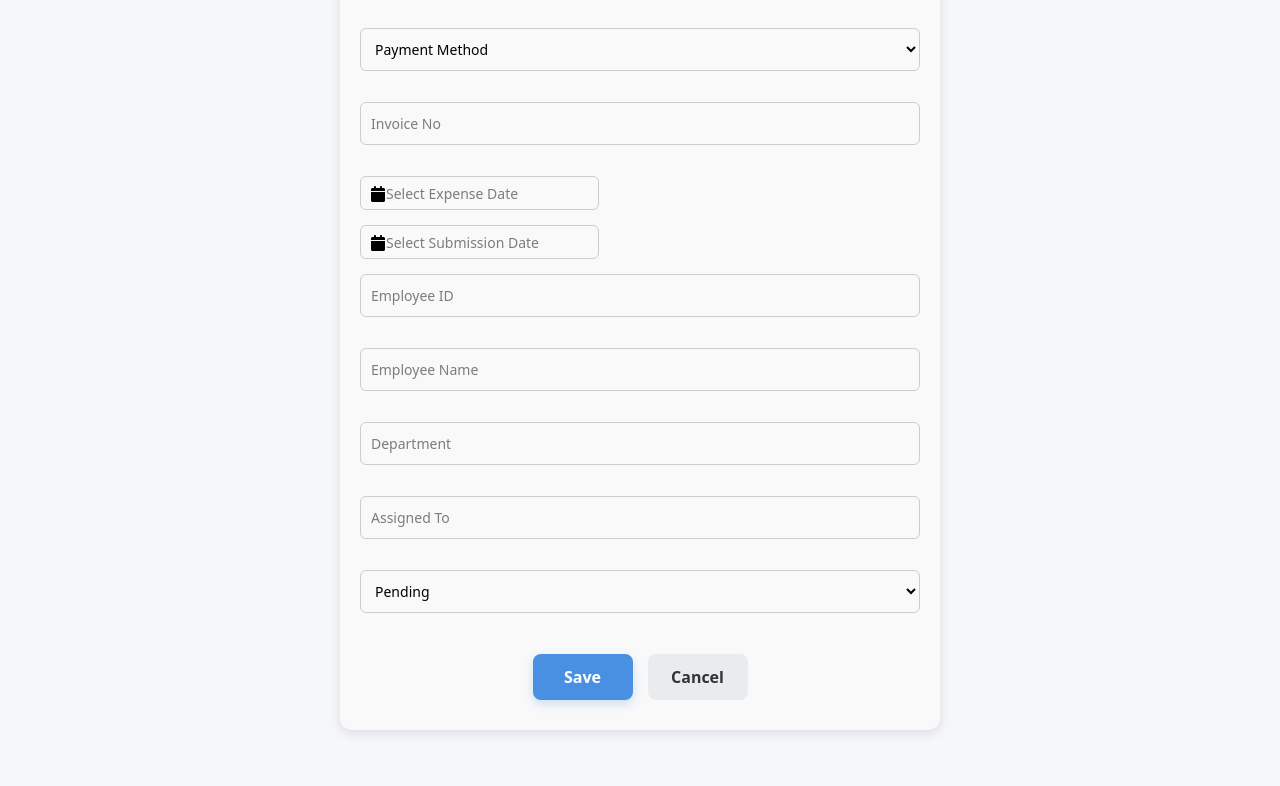
Test: UserExpense Page › shows validation errors on empty submit
(page scrolled)
Click the button "Save": (582, 677) top-left (532, 654), bottom-right (632, 700)
(page scrolled)
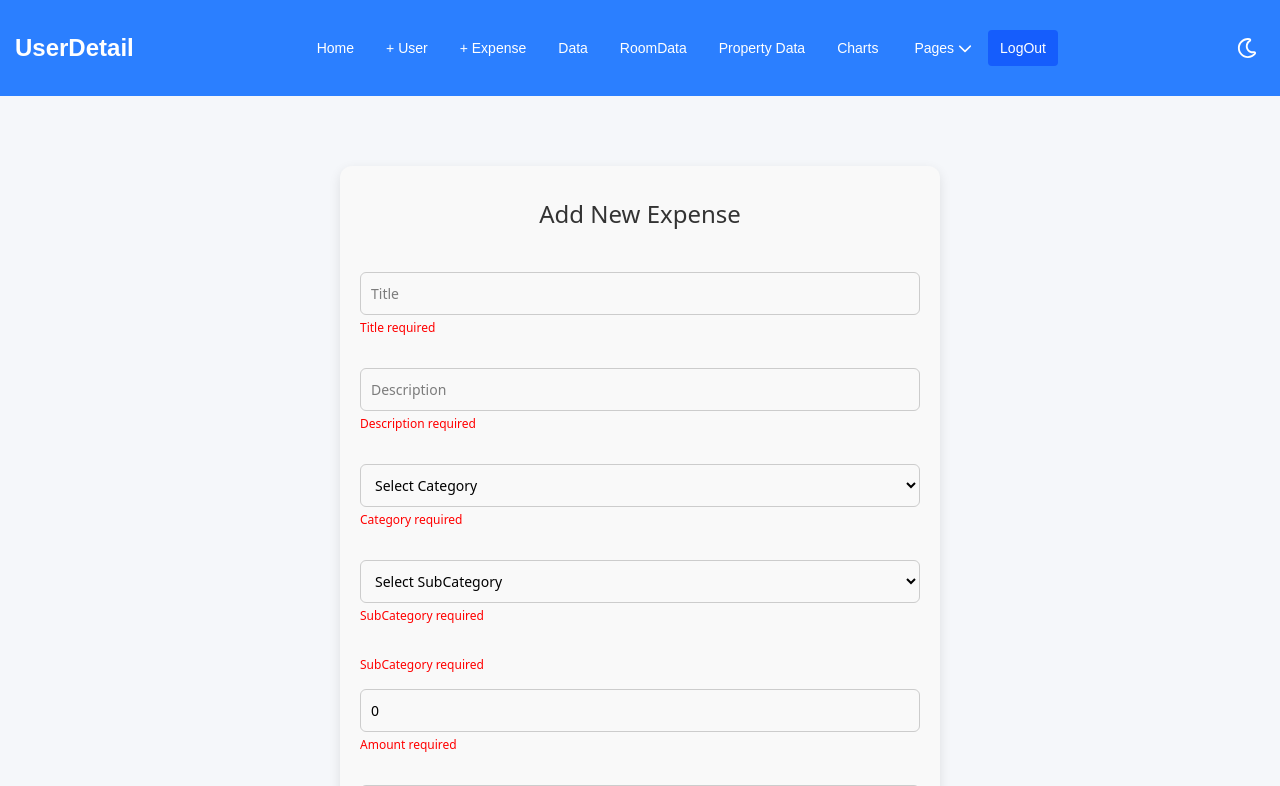
expect the text "Title required" is shown: met, box top-left (360, 319), bottom-right (435, 336)
